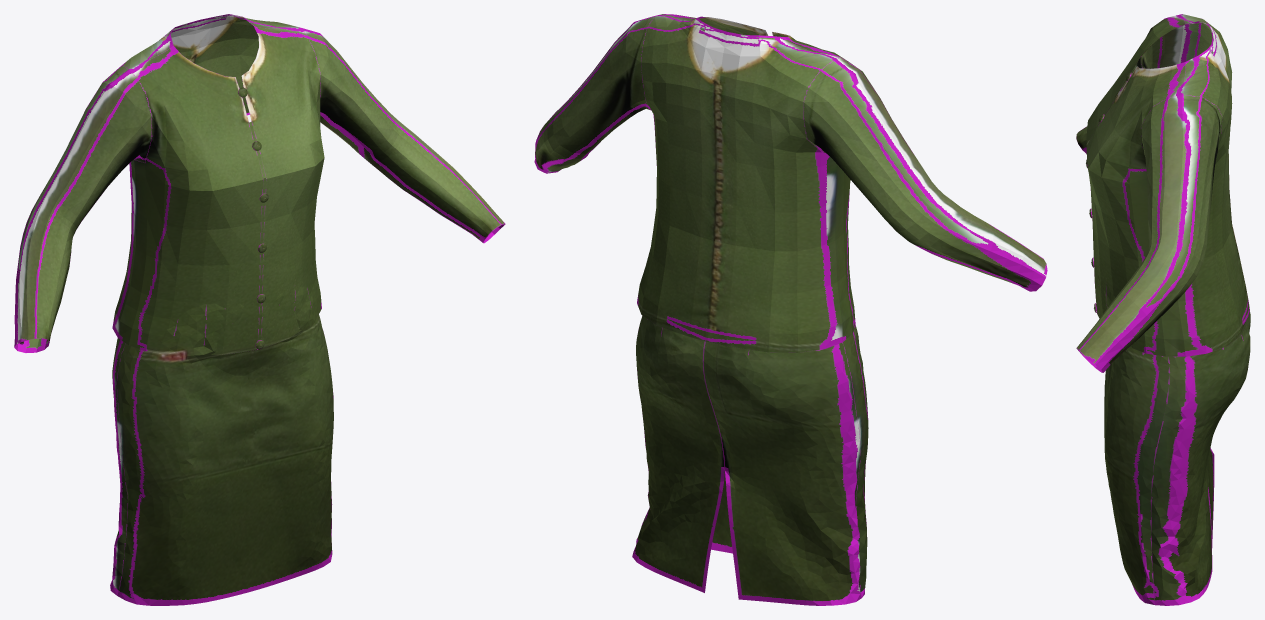
The picture shows the model from 3 angles, left to right: view 1: azimuth 30°, elevation 25°; view 2: azimuth 150°, elevation 25°; view 3: azimuth 270°, elevation 25°; orthographic projection. The views are drawn at different scales.
Size of the model in its own units: 1.03 by 1.1 by 0.3307.
1 material, 1 textured.
